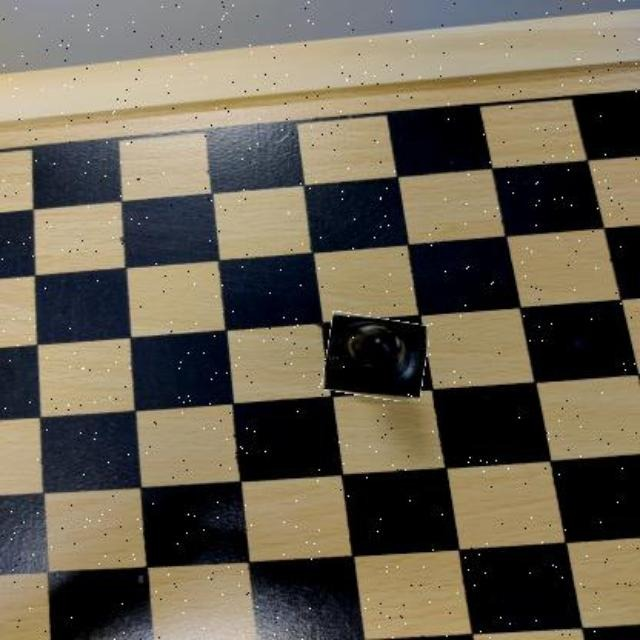black-bishop: (325, 315, 429, 401)
